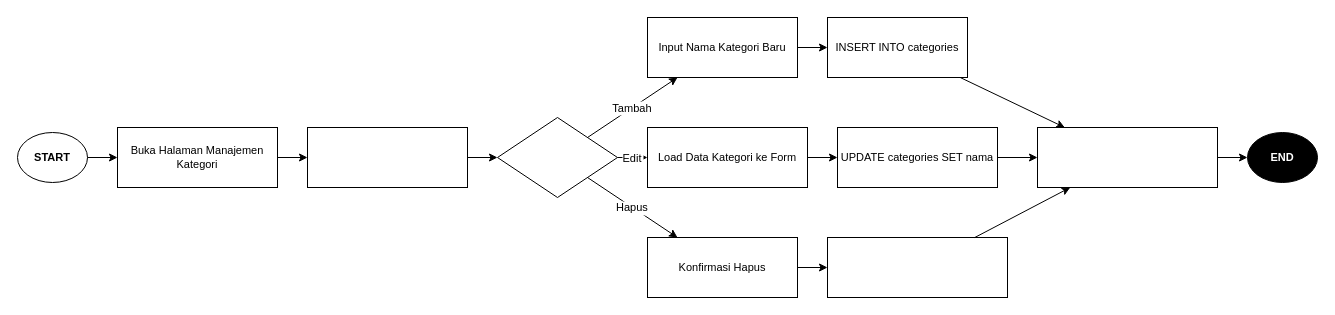
Image size: 1335x315. Some labels were removed from this diagram. Here are the shapes that lost their labels. From the top down, the centre of each, then its label:
point 387,157: Fetch & Render Semua Kategori dari DB
point 557,157: Pilih Aksi?
point 1127,157: Flash Message & Redirect ke categories.php
point 917,267: DELETE FROM categories (CASCADE ke menus)
